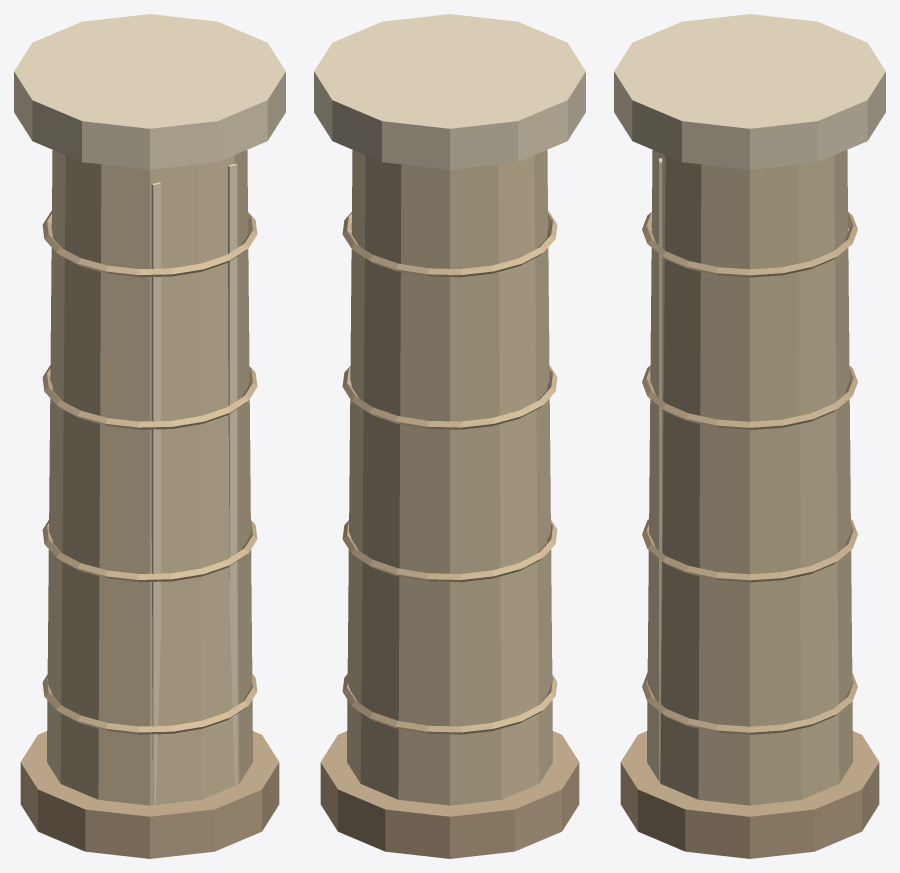
The model's file is columna_ruina.glb.
The picture shows the model from 3 angles, left to right: view 1: azimuth 30°, elevation 25°; view 2: azimuth 150°, elevation 25°; view 3: azimuth 270°, elevation 25°; orthographic projection.
Parts seen in each view (by area): view 1: columna_ruina; view 2: columna_ruina; view 3: columna_ruina.
Part boxes in pixels (box(x1,y1,x2,y2)): columna_ruina: box(14, 14, 285, 858); columna_ruina: box(314, 14, 585, 858); columna_ruina: box(614, 14, 885, 858).
Size of the model in its own units: 2.1 by 6.25 by 2.1.
